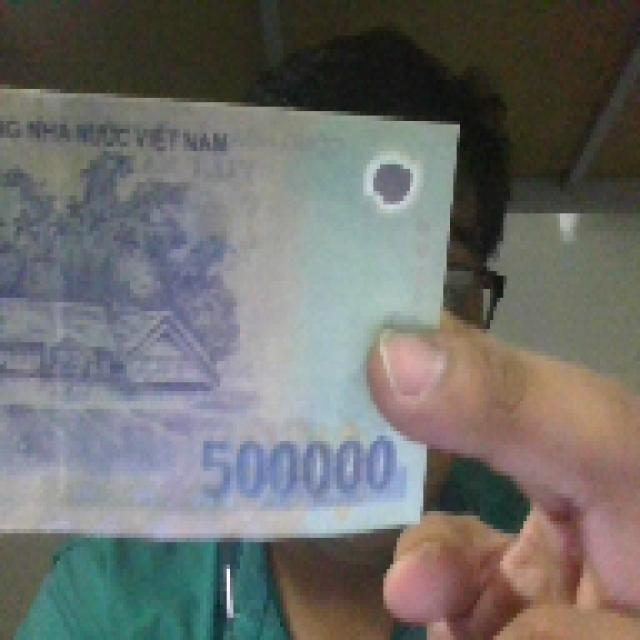500 000 VND: (0, 75, 463, 542)
